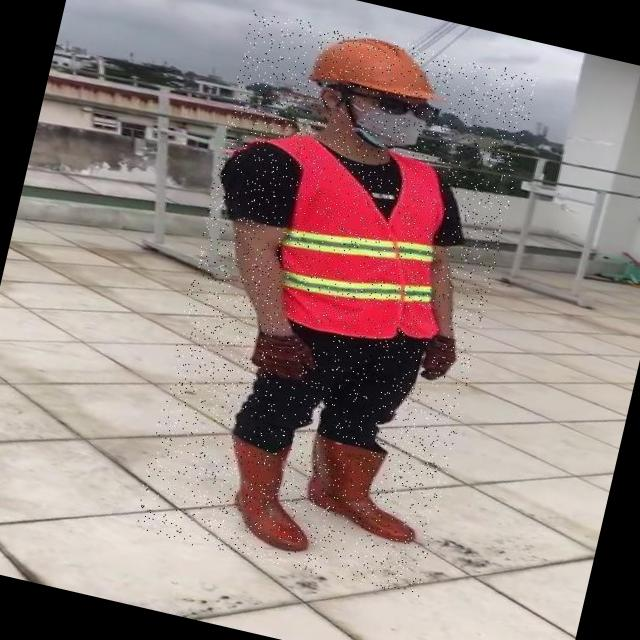hard_hat: (303, 22, 452, 114)
safety_vest: (263, 134, 469, 352)
vehicle: (132, 9, 539, 597)
work_boots: (297, 432, 433, 546), (213, 434, 328, 556)
